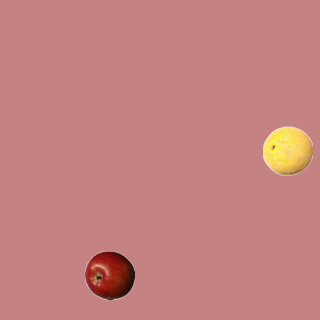Apple Braeburn: (84, 250, 134, 300)
Cantaloupe 1: (262, 125, 312, 175)
